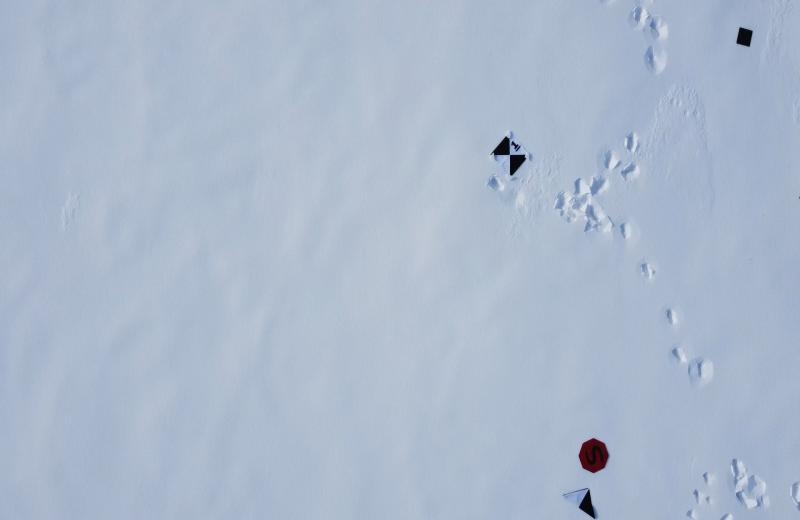Octagon: (577, 434, 611, 478)
Square: (736, 26, 754, 49)
